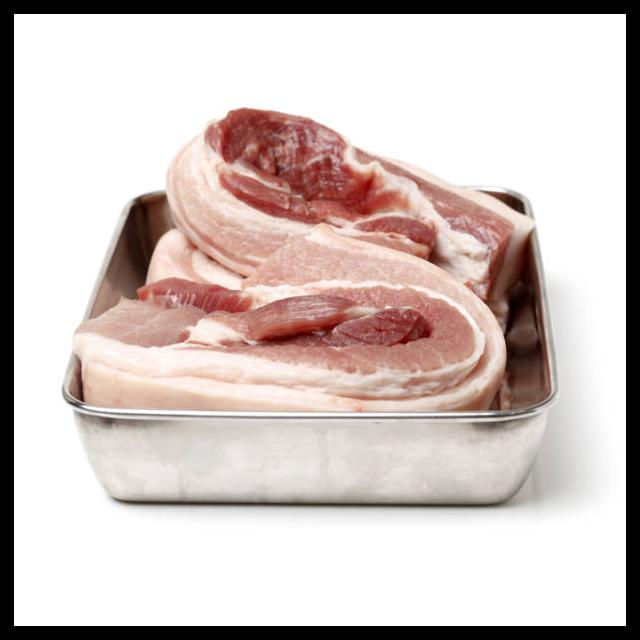pork: (77, 261, 500, 415), (163, 104, 524, 281)
